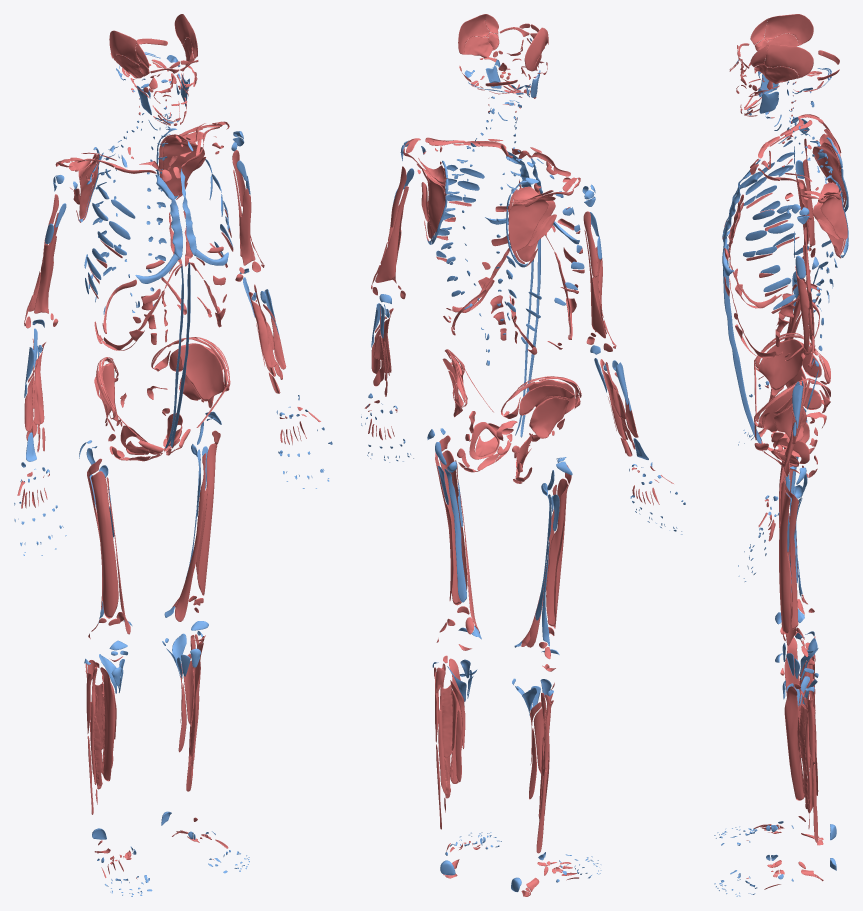
File: insertions-hd.glb
The picture shows the model from 3 angles, left to right: view 1: azimuth 30°, elevation 25°; view 2: azimuth 150°, elevation 25°; view 3: azimuth 270°, elevation 25°; orthographic projection. The views are drawn at different scales.
Parts seen in each view (by area): view 1: Vastus intermedius muscle.or, Iliacus muscle.ol, Subscapularis muscle.ol, Vastus intermedius muscle.ol, Tibialis anterior muscle.or, Vastus medialis muscle.ol, Brachialis muscle.or, Brachialis muscle.ol, Ulnar head of flexor carpi ulnaris.ol, Rectus abdominis muscle.el, Temporalis muscle.o2r; view 2: Infraspinatus muscle.or, Vastus intermedius muscle.ol, Vastus lateralis muscle.or, Gluteus minimus muscle.or, Adductor magnus.el, Medial head of triceps brachii.ol, Tibialis posterior muscle.ol, Gluteus medius muscle.or, Infraspinatus muscle.ol, Vastus intermedius muscle.or, Temporalis muscle.o2l; view 3: Iliacus muscle.or, Tibialis anterior muscle.ol, Vastus intermedius muscle.ol, Temporalis muscle.o2l, Temporalis muscle.o2r, Rectus abdominis muscle.el, Vastus lateralis muscle.ol, Infraspinatus muscle.ol, Subscapularis muscle.or, Gluteus minimus muscle.ol, Brachialis muscle.ol, Iliacus muscle.ol (+17 smaller).
Boxes of the visible parts, left/top/right/bottom form: Vastus intermedius muscle.or: left=91, top=471, right=118, bottom=618; Iliacus muscle.ol: left=180, top=343, right=224, bottom=401; Subscapularis muscle.ol: left=163, top=136, right=204, bottom=196; Vastus intermedius muscle.ol: left=197, top=443, right=217, bottom=595; Tibialis anterior muscle.or: left=100, top=667, right=115, bottom=781; Vastus medialis muscle.ol: left=175, top=453, right=206, bottom=621; Brachialis muscle.or: left=34, top=235, right=56, bottom=313; Brachialis muscle.ol: left=239, top=188, right=255, bottom=265; Ulnar head of flexor carpi ulnaris.ol: left=248, top=292, right=276, bottom=367; Rectus abdominis muscle.el: left=170, top=262, right=190, bottom=446; Temporalis muscle.o2r: left=109, top=30, right=139, bottom=64; Infraspinatus muscle.or: left=508, top=196, right=555, bottom=251; Vastus intermedius muscle.ol: left=439, top=450, right=467, bottom=605; Vastus lateralis muscle.or: left=546, top=465, right=571, bottom=626; Gluteus minimus muscle.or: left=529, top=397, right=569, bottom=438; Adductor magnus.el: left=444, top=469, right=481, bottom=639; Medial head of triceps brachii.ol: left=375, top=186, right=408, bottom=282; Tibialis posterior muscle.ol: left=441, top=684, right=456, bottom=757; Gluteus medius muscle.or: left=519, top=385, right=574, bottom=415; Infraspinatus muscle.ol: left=417, top=163, right=445, bottom=231; Vastus intermedius muscle.or: left=553, top=478, right=567, bottom=628; Temporalis muscle.o2l: left=458, top=14, right=489, bottom=54; Iliacus muscle.or: left=758, top=339, right=805, bottom=390; Tibialis anterior muscle.ol: left=784, top=686, right=804, bottom=800; Vastus intermedius muscle.ol: left=779, top=490, right=790, bottom=634; Temporalis muscle.o2l: left=764, top=44, right=813, bottom=77; Temporalis muscle.o2r: left=764, top=14, right=813, bottom=45; Rectus abdominis muscle.el: left=723, top=247, right=761, bottom=443; Vastus lateralis muscle.ol: left=783, top=479, right=798, bottom=629; Infraspinatus muscle.ol: left=820, top=194, right=847, bottom=239; Subscapularis muscle.or: left=812, top=145, right=844, bottom=202; Gluteus minimus muscle.ol: left=774, top=405, right=806, bottom=441; Brachialis muscle.ol: left=795, top=266, right=809, bottom=352; Iliacus muscle.ol: left=758, top=382, right=805, bottom=432.
Size of the model in its own units: 0.6605 by 1.65 by 0.2414.
